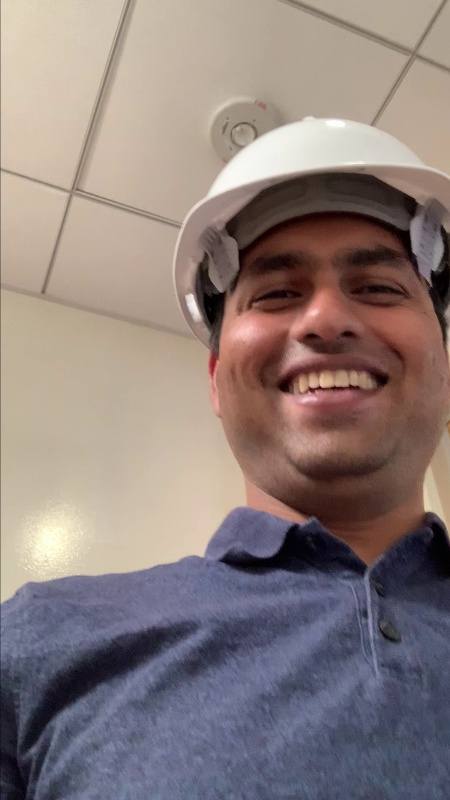helmet: (174, 115, 450, 268)
